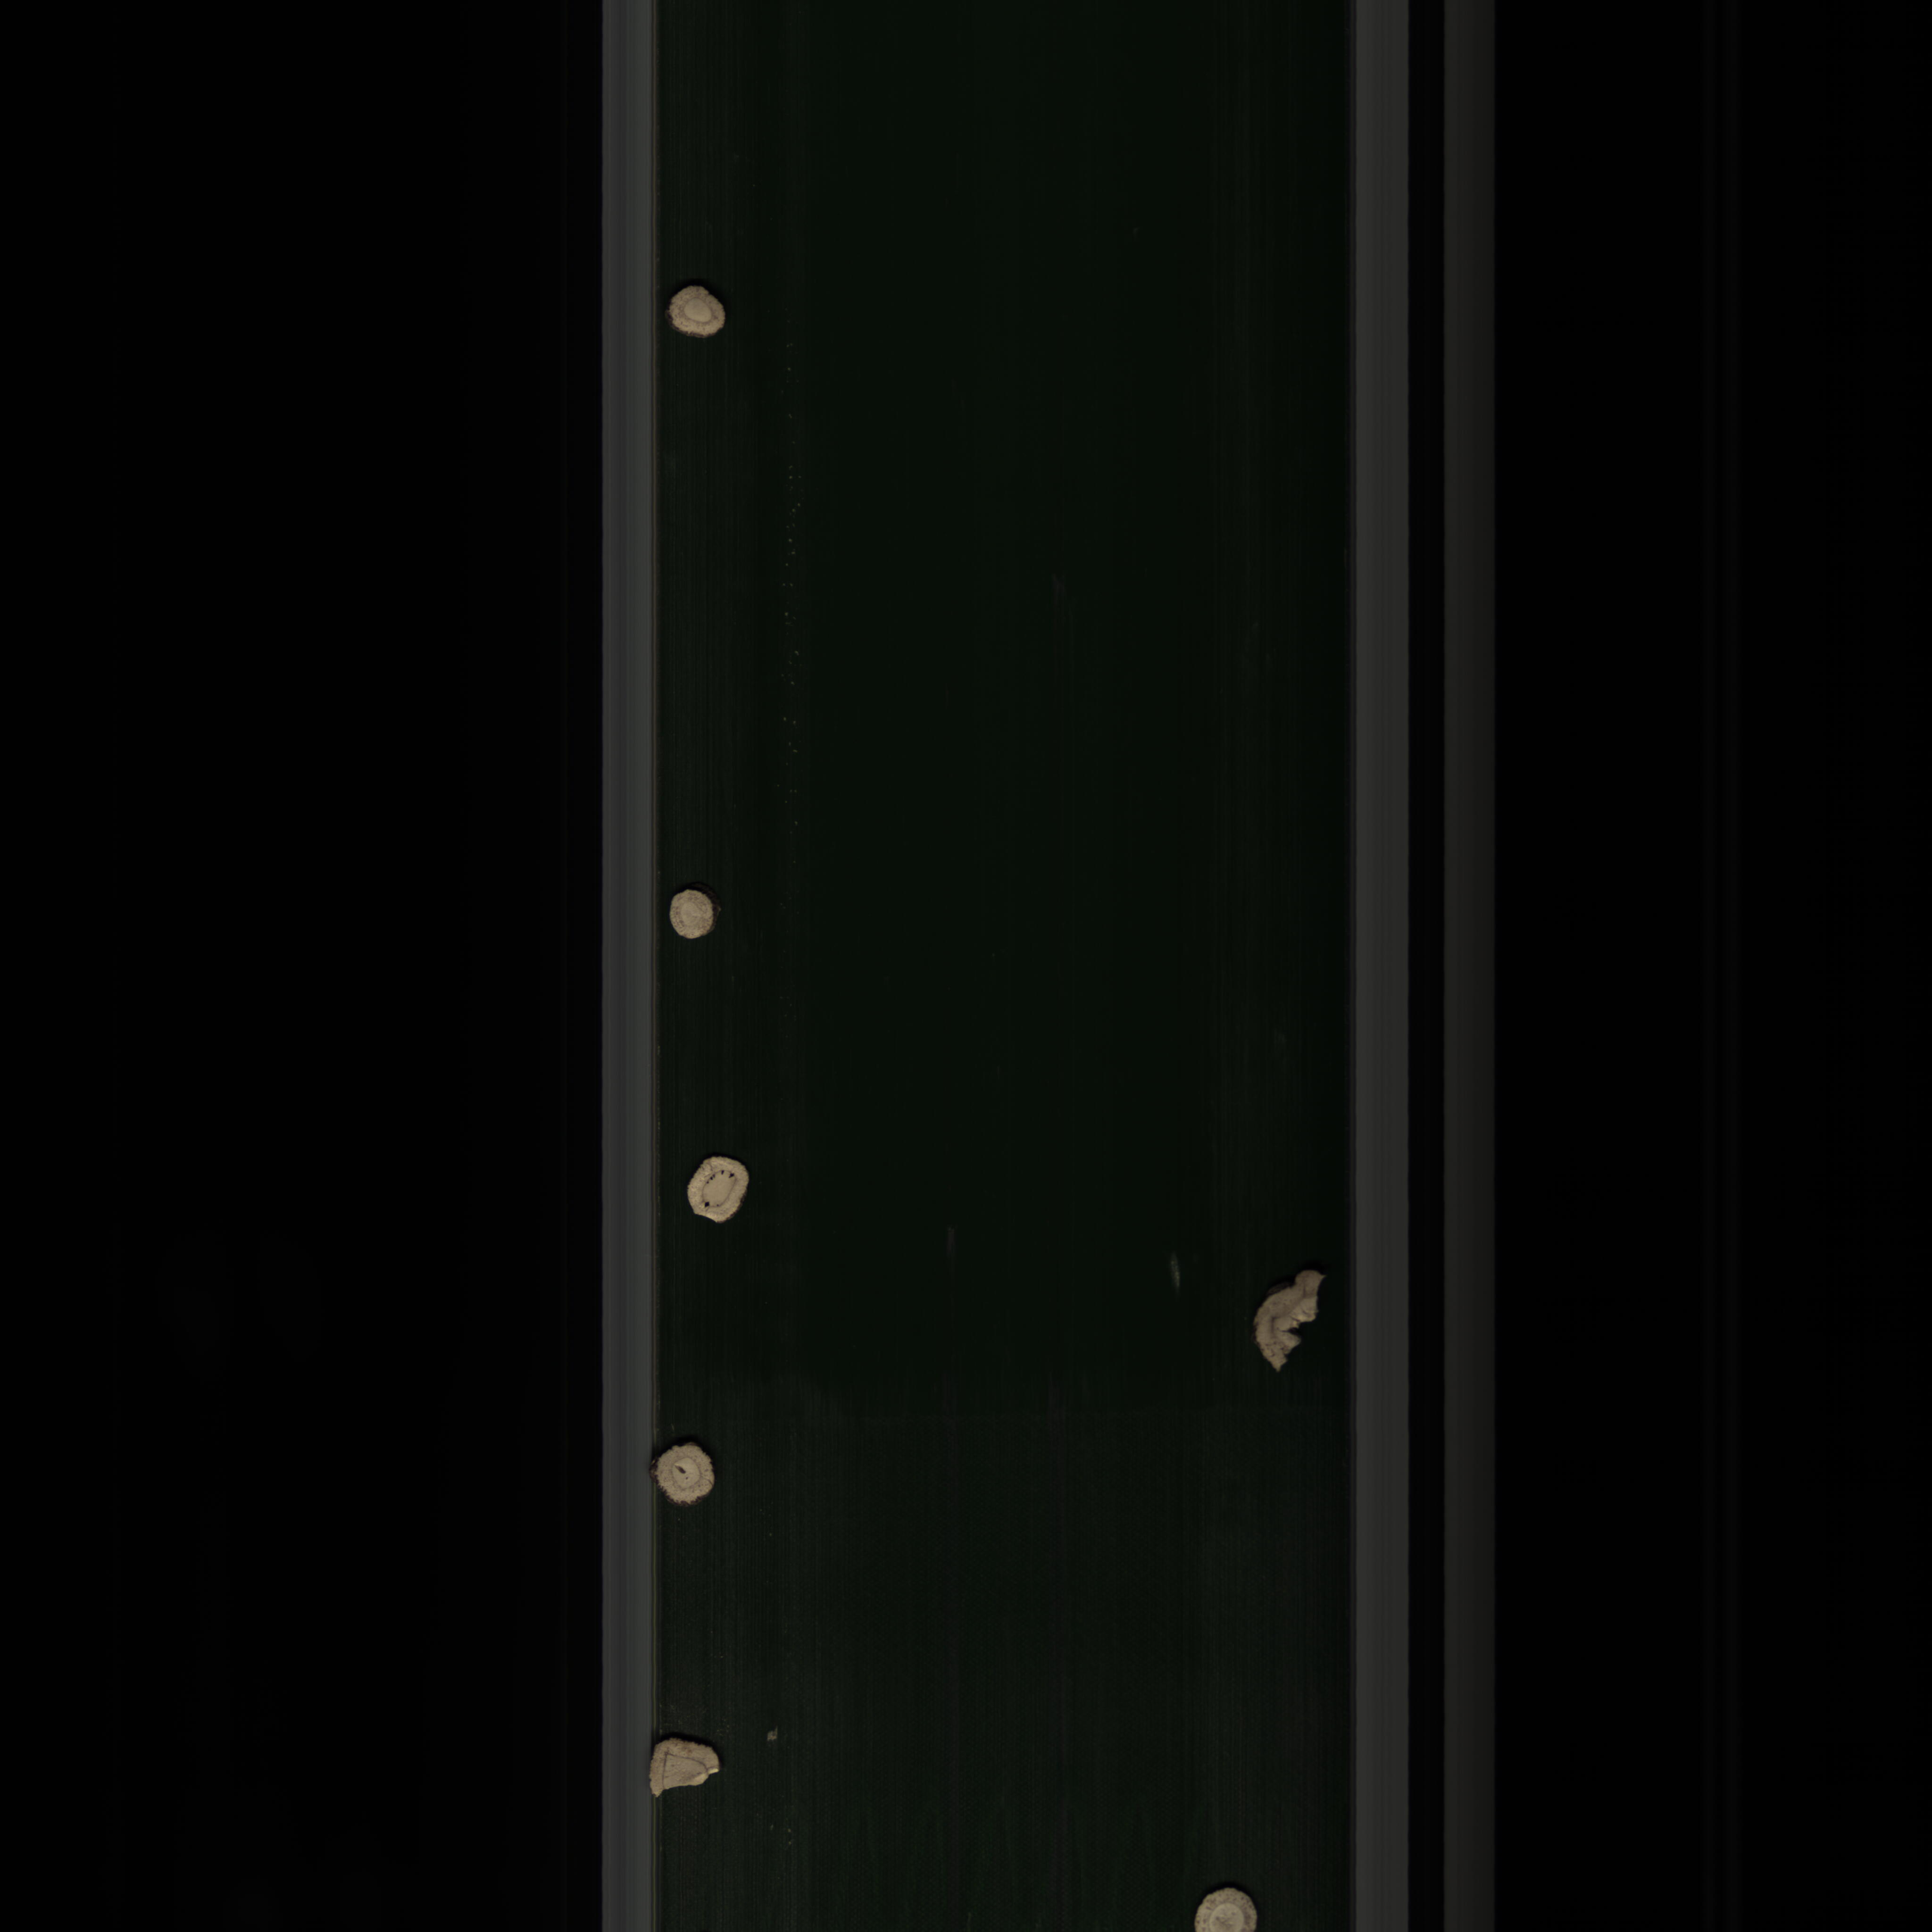debris: (1247, 1263, 1334, 1378), (639, 1725, 745, 1815)
hole: (681, 1148, 761, 1240), (648, 1442, 731, 1518)
